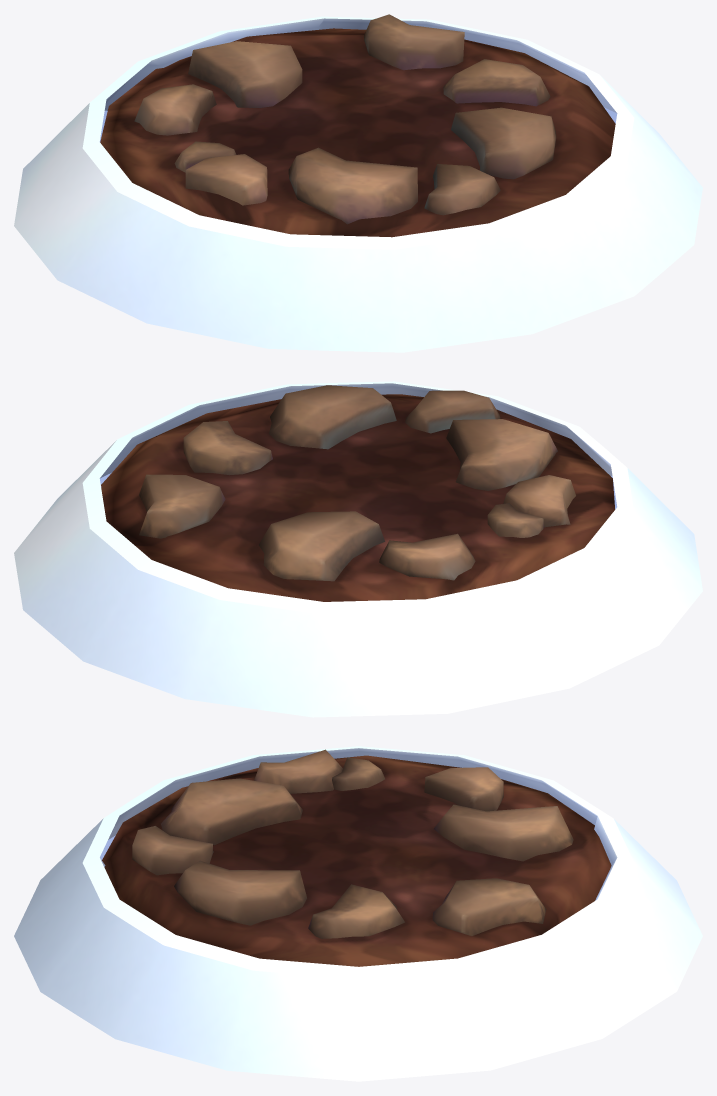
File: obj_earth.gltf
3 views of the same model, one above another, from view 1: azimuth 30°, elevation 25°; view 2: azimuth 150°, elevation 25°; view 3: azimuth 270°, elevation 25° (orthographic).
Parts seen in each view (by area): view 1: obj_earth; view 2: obj_earth; view 3: obj_earth.
Boxes of the visible parts, left/top/right/bottom form: obj_earth: left=14, top=14, right=702, bottom=352; obj_earth: left=14, top=381, right=702, bottom=717; obj_earth: left=14, top=746, right=702, bottom=1081.
Size of what is drawn, in the model's own units: 2.1 by 0.3444 by 2.1.
Materials: 2 (1 with a texture image).
